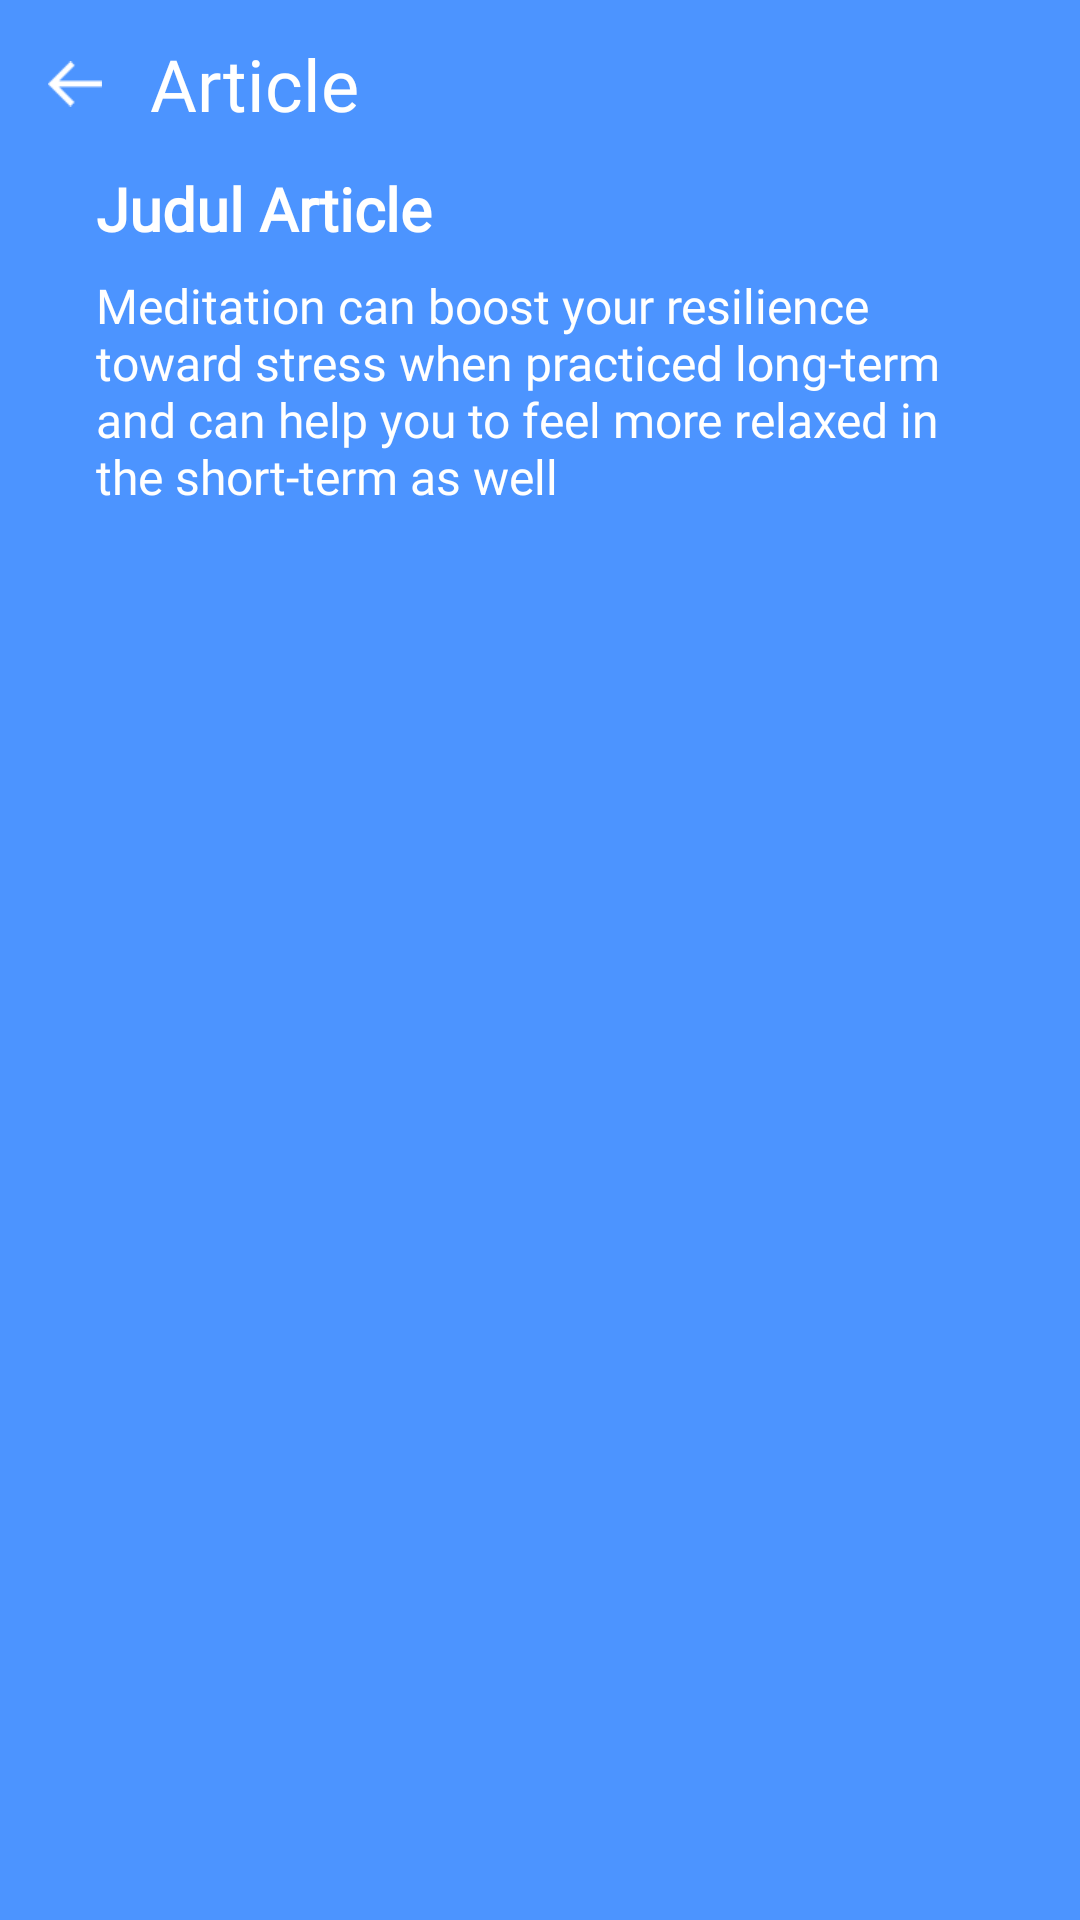

Point at icon controls on the screen. Image size 1080px×1920px, points as point (x, y).
back: point (75, 84)
